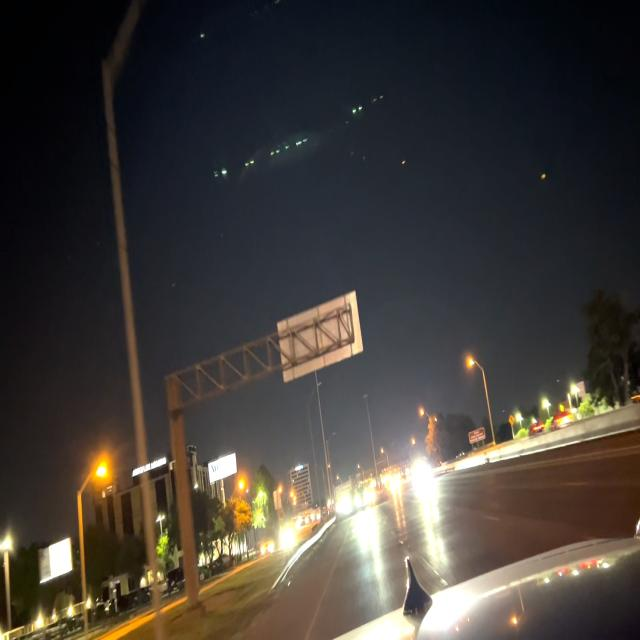back-of-sign: (276, 291, 364, 379)
